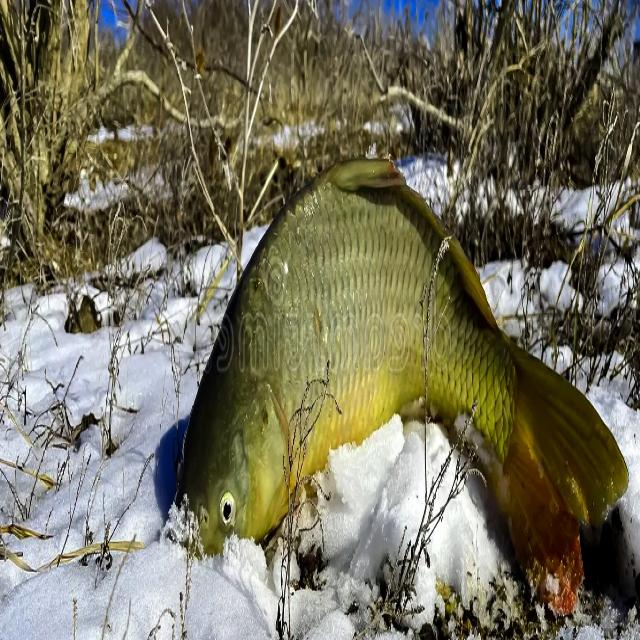Common carp: (168, 159, 632, 616)
